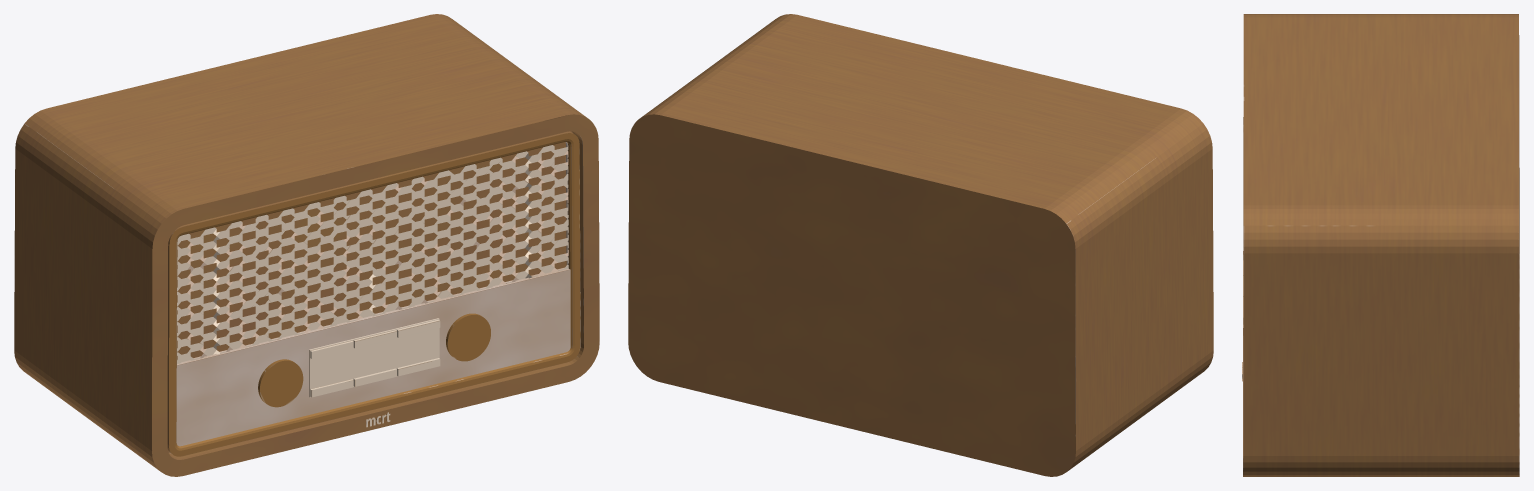
Rendered from radio.fbx.
The picture shows the model from 3 angles, left to right: view 1: azimuth 30°, elevation 25°; view 2: azimuth 150°, elevation 25°; view 3: azimuth 270°, elevation 25°; orthographic projection.
Parts seen in each view (by area): view 1: radio; view 2: radio; view 3: radio.
Boxes of the visible parts, x1=… form: radio: x1=14, y1=14, x2=599, y2=476; radio: x1=628, y1=14, x2=1213, y2=476; radio: x1=1242, y1=14, x2=1519, y2=476.
Size of the model in its own units: 234 by 133 by 125.
1 material, 1 textured.
